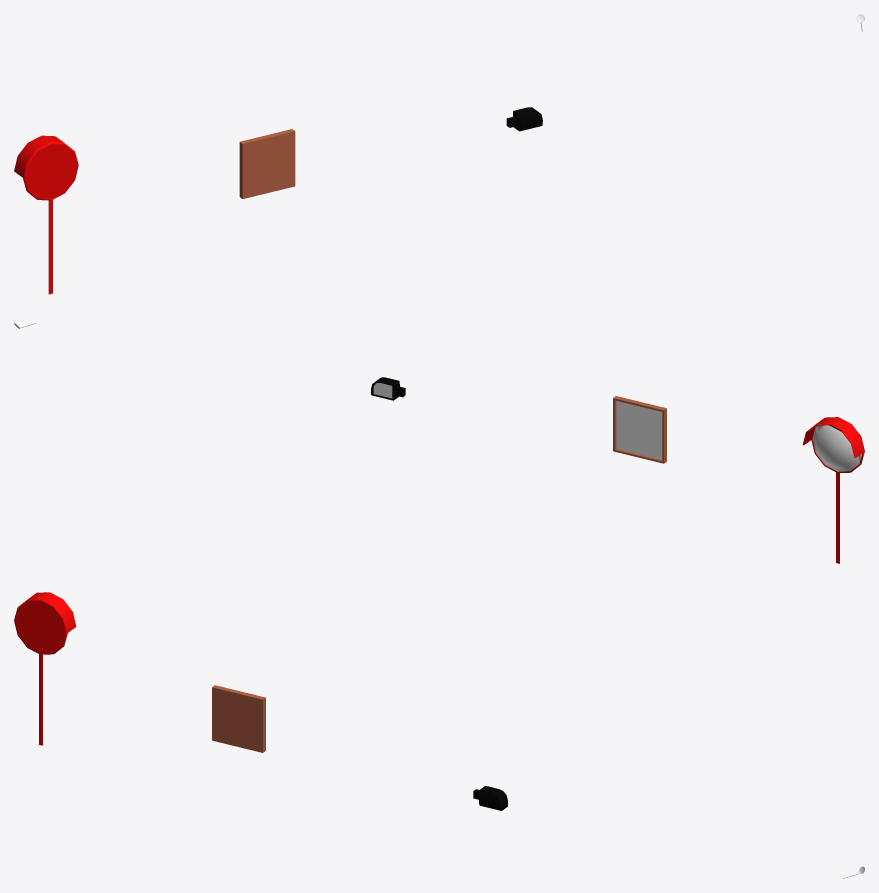
Rendered from level 5.fbx.
3 renders of one model, top to bottom at view 1: azimuth 30°, elevation 25°; view 2: azimuth 150°, elevation 25°; view 3: azimuth 330°, elevation 25°, orthographic. The views are drawn at different scales.
Parts seen in each view (by area): view 1: road_side_mirror, vanity_mirror, side_mirror; view 2: vanity_mirror, road_side_mirror, side_mirror; view 3: road_side_mirror, vanity_mirror, side_mirror.
Boxes of the visible parts, bbox=[...] form: road_side_mirror: bbox=[14, 135, 78, 294]; vanity_mirror: bbox=[239, 129, 295, 198]; side_mirror: bbox=[506, 107, 542, 131]; vanity_mirror: bbox=[613, 396, 666, 463]; road_side_mirror: bbox=[802, 417, 864, 563]; side_mirror: bbox=[371, 377, 405, 400]; road_side_mirror: bbox=[14, 592, 76, 745]; vanity_mirror: bbox=[212, 685, 265, 752]; side_mirror: bbox=[473, 786, 507, 810].
Bounding box in the file's own units: 1634 × 275 × 98.18.
Materials: 1 (1 with a texture image).
